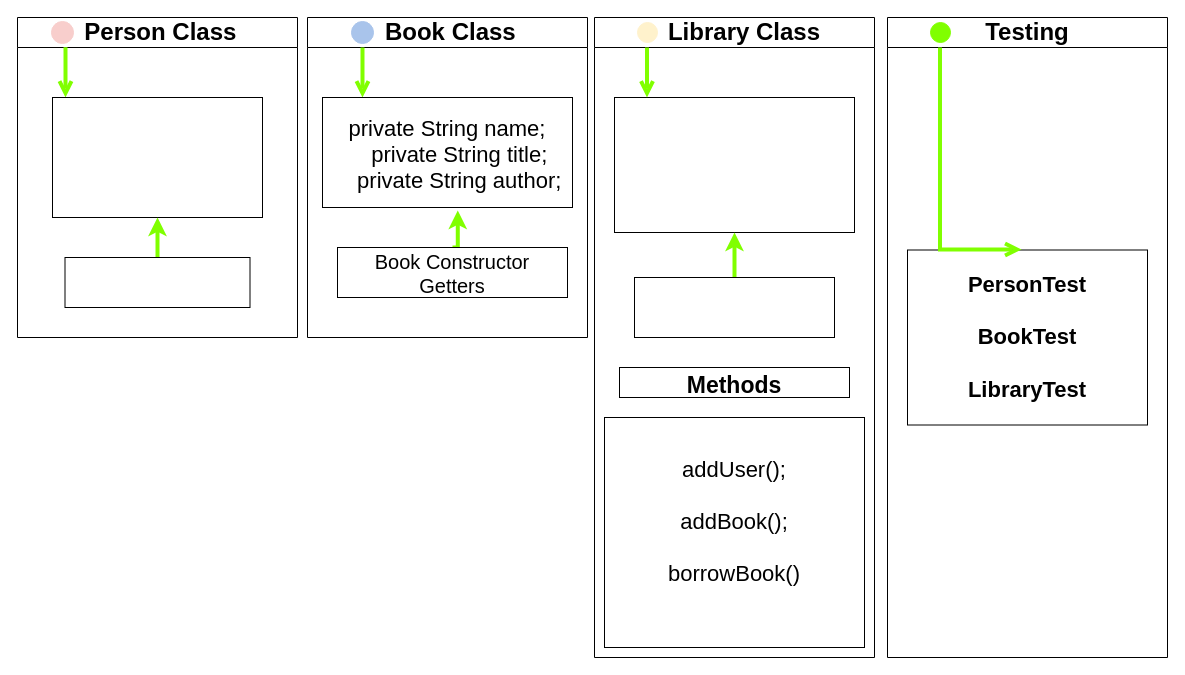
This 1185x675 diagram has some shape labels left out. The centre of each missing label's shape, as x and y in pixels:
"Library Constructor Getters" goes at [734,307].
"List of Books private List<Book> collection;" goes at [734,164].
"Person constructor Getters" goes at [157,282].
"Sting name; int level; String rank;" goes at [157,157].
